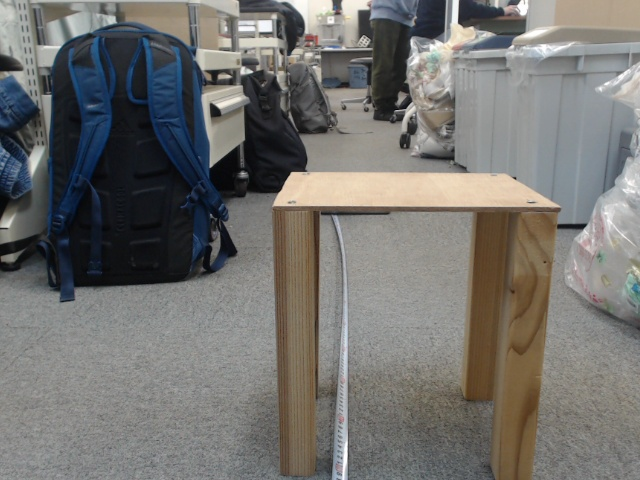desk: (256, 147, 482, 399)
